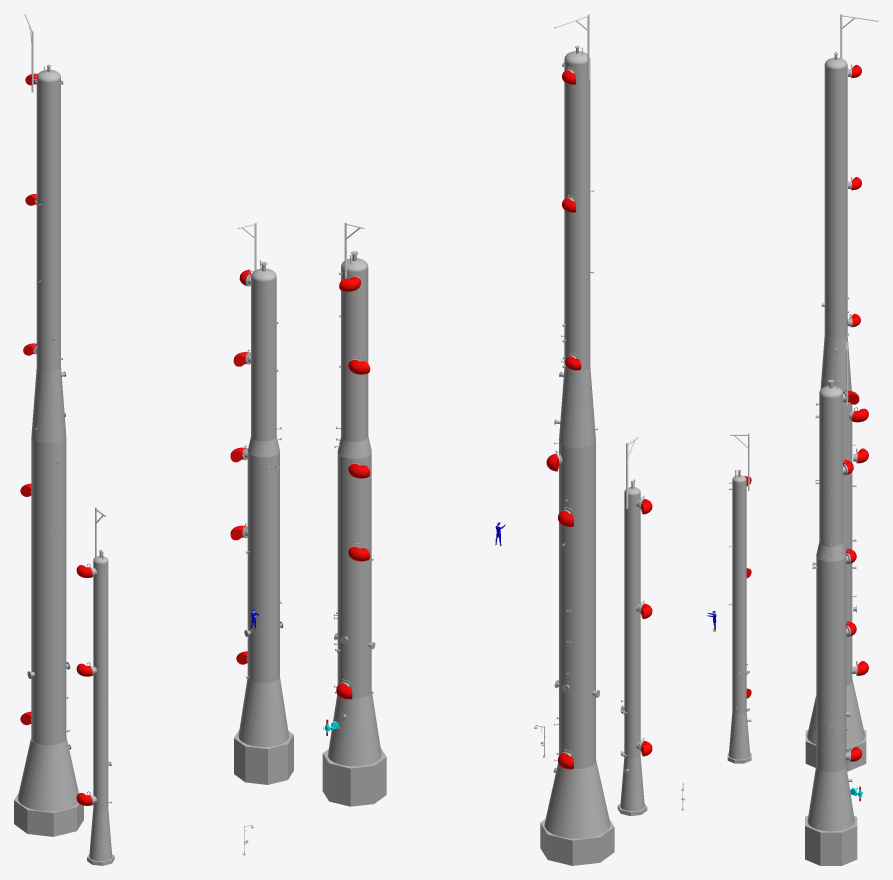
Rendered from Torres alejadas.fbx.
3 views of the same model, side by side, from view 1: azimuth 30°, elevation 25°; view 2: azimuth 150°, elevation 25°; view 3: azimuth 270°, elevation 25° (orthographic). The views are drawn at different scales.
Visible parts, largest first — view 1: Cell (×3), Solid (×2); view 2: Cell (×3), Solid (×2); view 3: Cell (×3), Solid (×2).
Part boxes in pixels (<box>): Cell (×3): <box>17,69,289,861</box>; Solid (×2): <box>14,729,293,836</box>; Cell (×3): <box>327,51,644,838</box>; Solid (×2): <box>322,748,614,865</box>; Cell (×3): <box>728,57,865,831</box>; Solid (×2): <box>805,730,866,865</box>.
Size of the model in its own units: 23.13 by 16.03 by 66.15.
